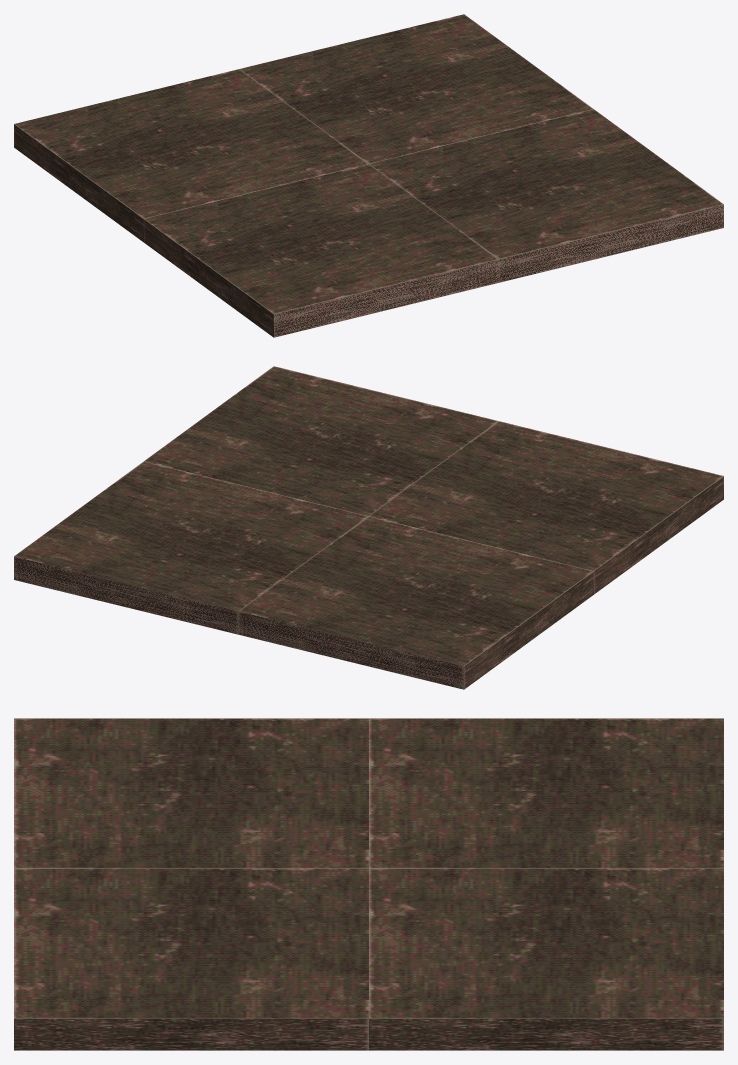
The model's file is Ceiling.fbx.
3 views of the same model, one above another, from view 1: azimuth 30°, elevation 25°; view 2: azimuth 150°, elevation 25°; view 3: azimuth 270°, elevation 25° (orthographic). The views are drawn at different scales.
Visible parts, largest first — view 1: Ceiling; view 2: Ceiling; view 3: Ceiling.
Part boxes in pixels (bbox=[...]): Ceiling: bbox=[14, 14, 723, 337]; Ceiling: bbox=[14, 366, 723, 689]; Ceiling: bbox=[14, 718, 723, 1050].
Bounding box in the file's own units: 400 × 21.65 × 400.
Materials: 1 (1 with a texture image).
